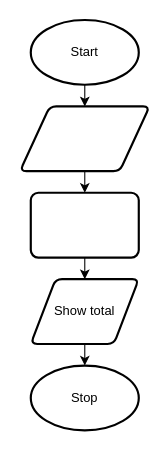
Some shapes in this 168 by 449 pixel diagram are drawn without their labels. Here are the shapes that lost their labels. From the top down, the centre of each, then its label:
At (84,138): "Get int1 & int2".
At (84,224): "total = int1 + int2".
